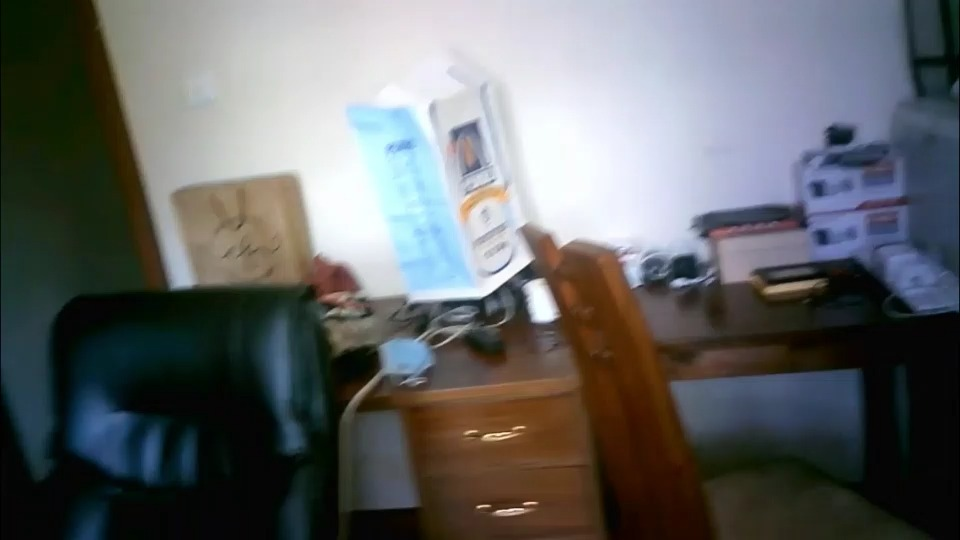wheat_flour_blue_label: (341, 50, 539, 295)
